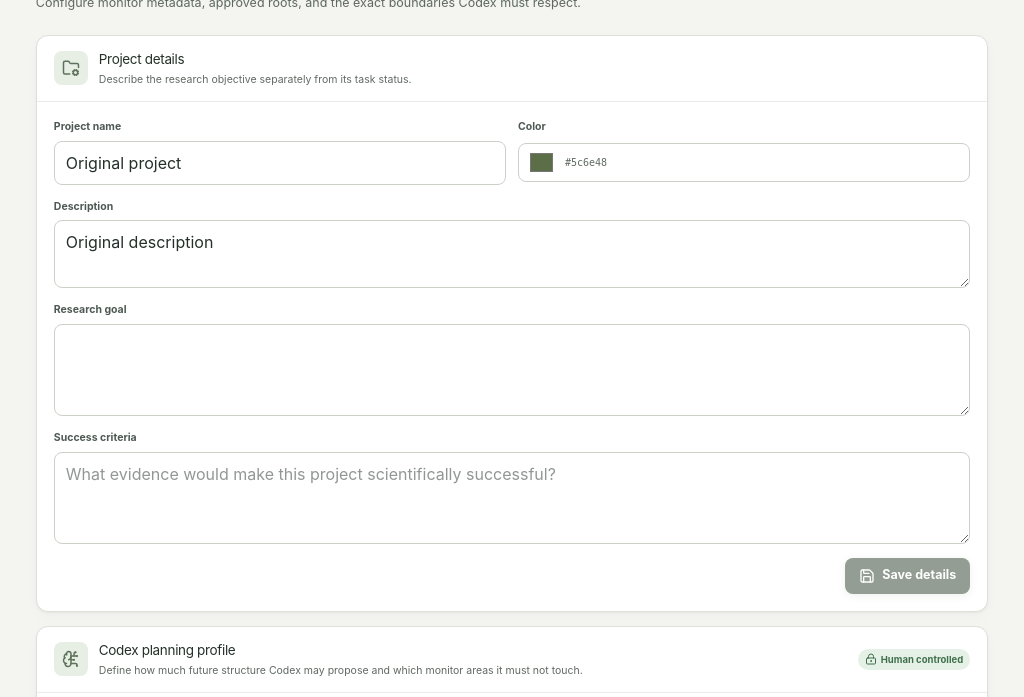
Test: SettingsView draft preservation › uses the project entity version and reports the exact automation state that a profile save would stale
The width and height of the screenshot is (1024, 697).
Replace the text in the field labelled "Project name" with "Versioned project" at (280, 162), box [54,140,506,184]
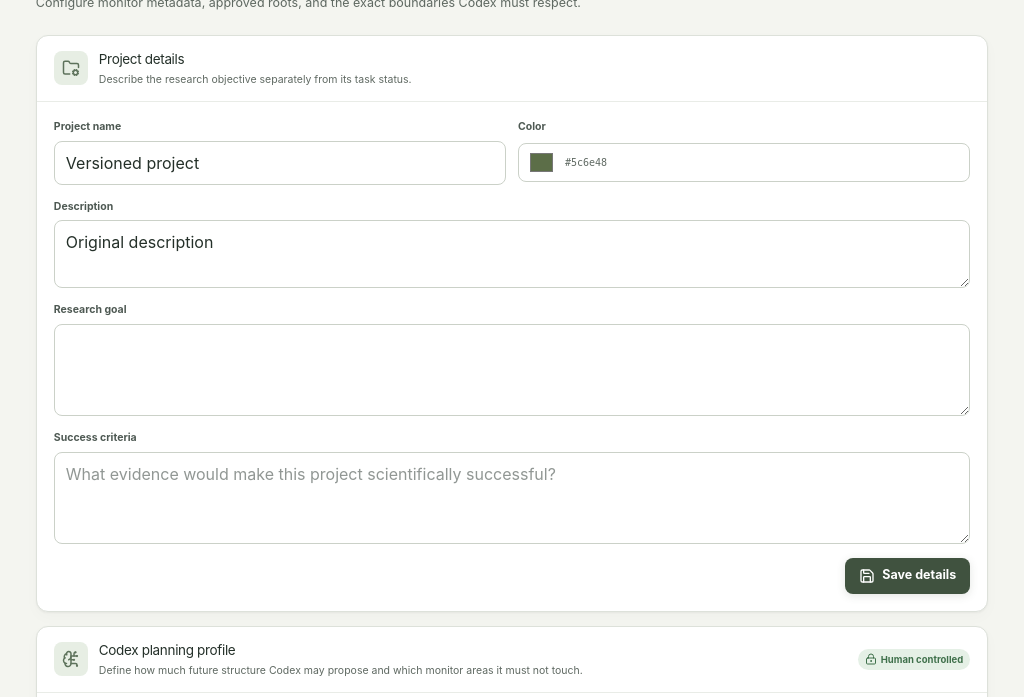
Click the button "Save details" at (908, 576), box [845,558,970,594]
(page scrolled)
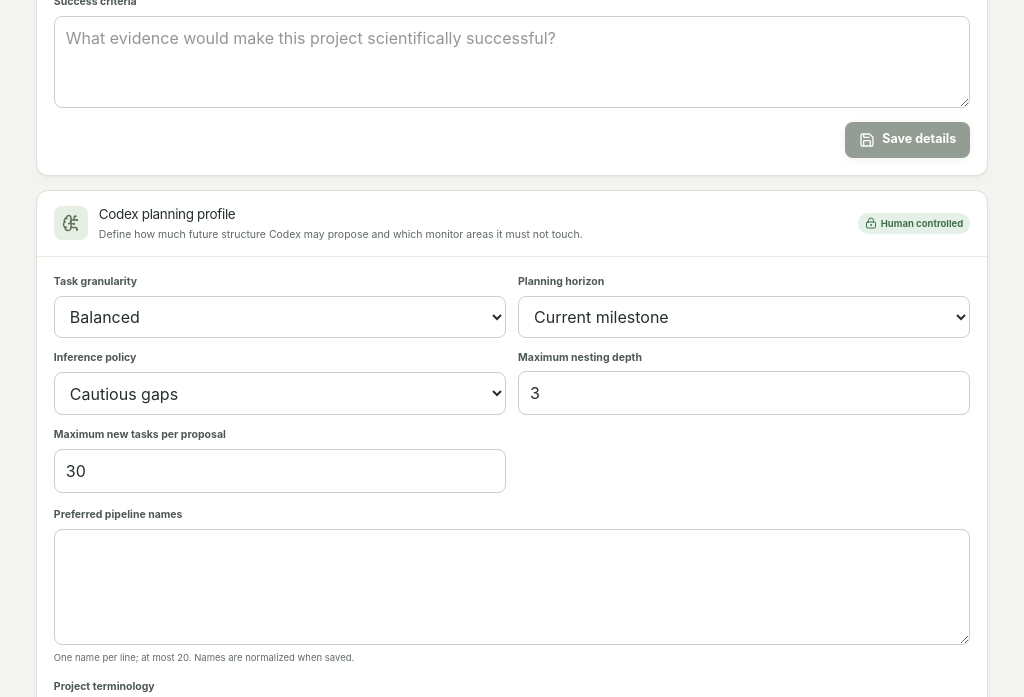
Select "Detailed" in the dropdown labelled "Task granularity" at (280, 316), box [54,296,506,338]
(page scrolled)
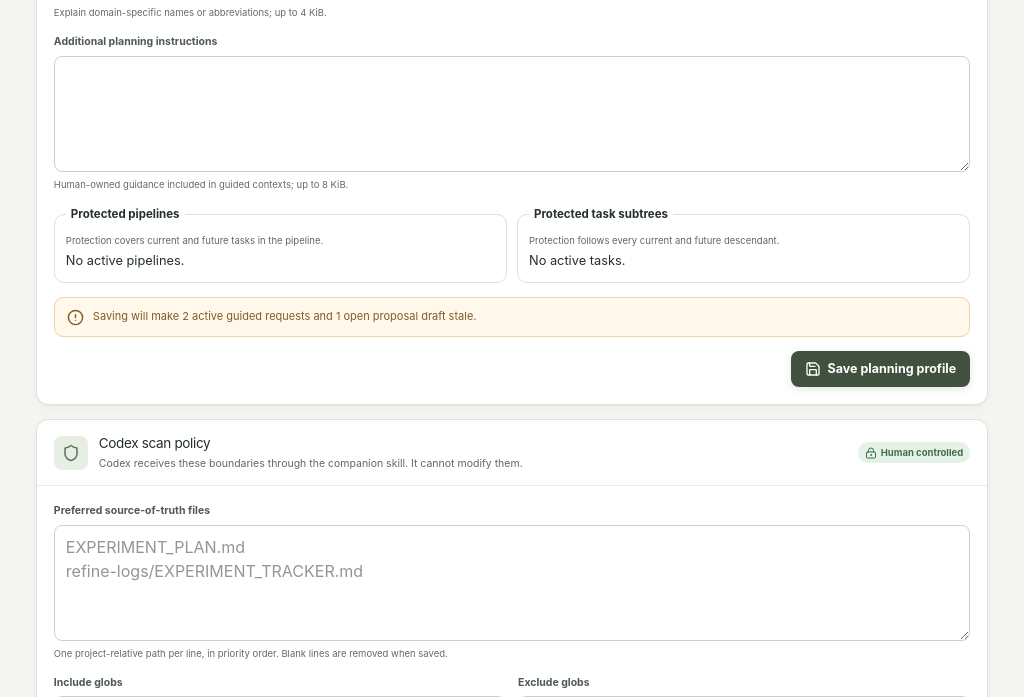
Now the text "Saving will make 2 active guided requests and 1 open proposal draft stale." is shown, box [93,308,476,325]
